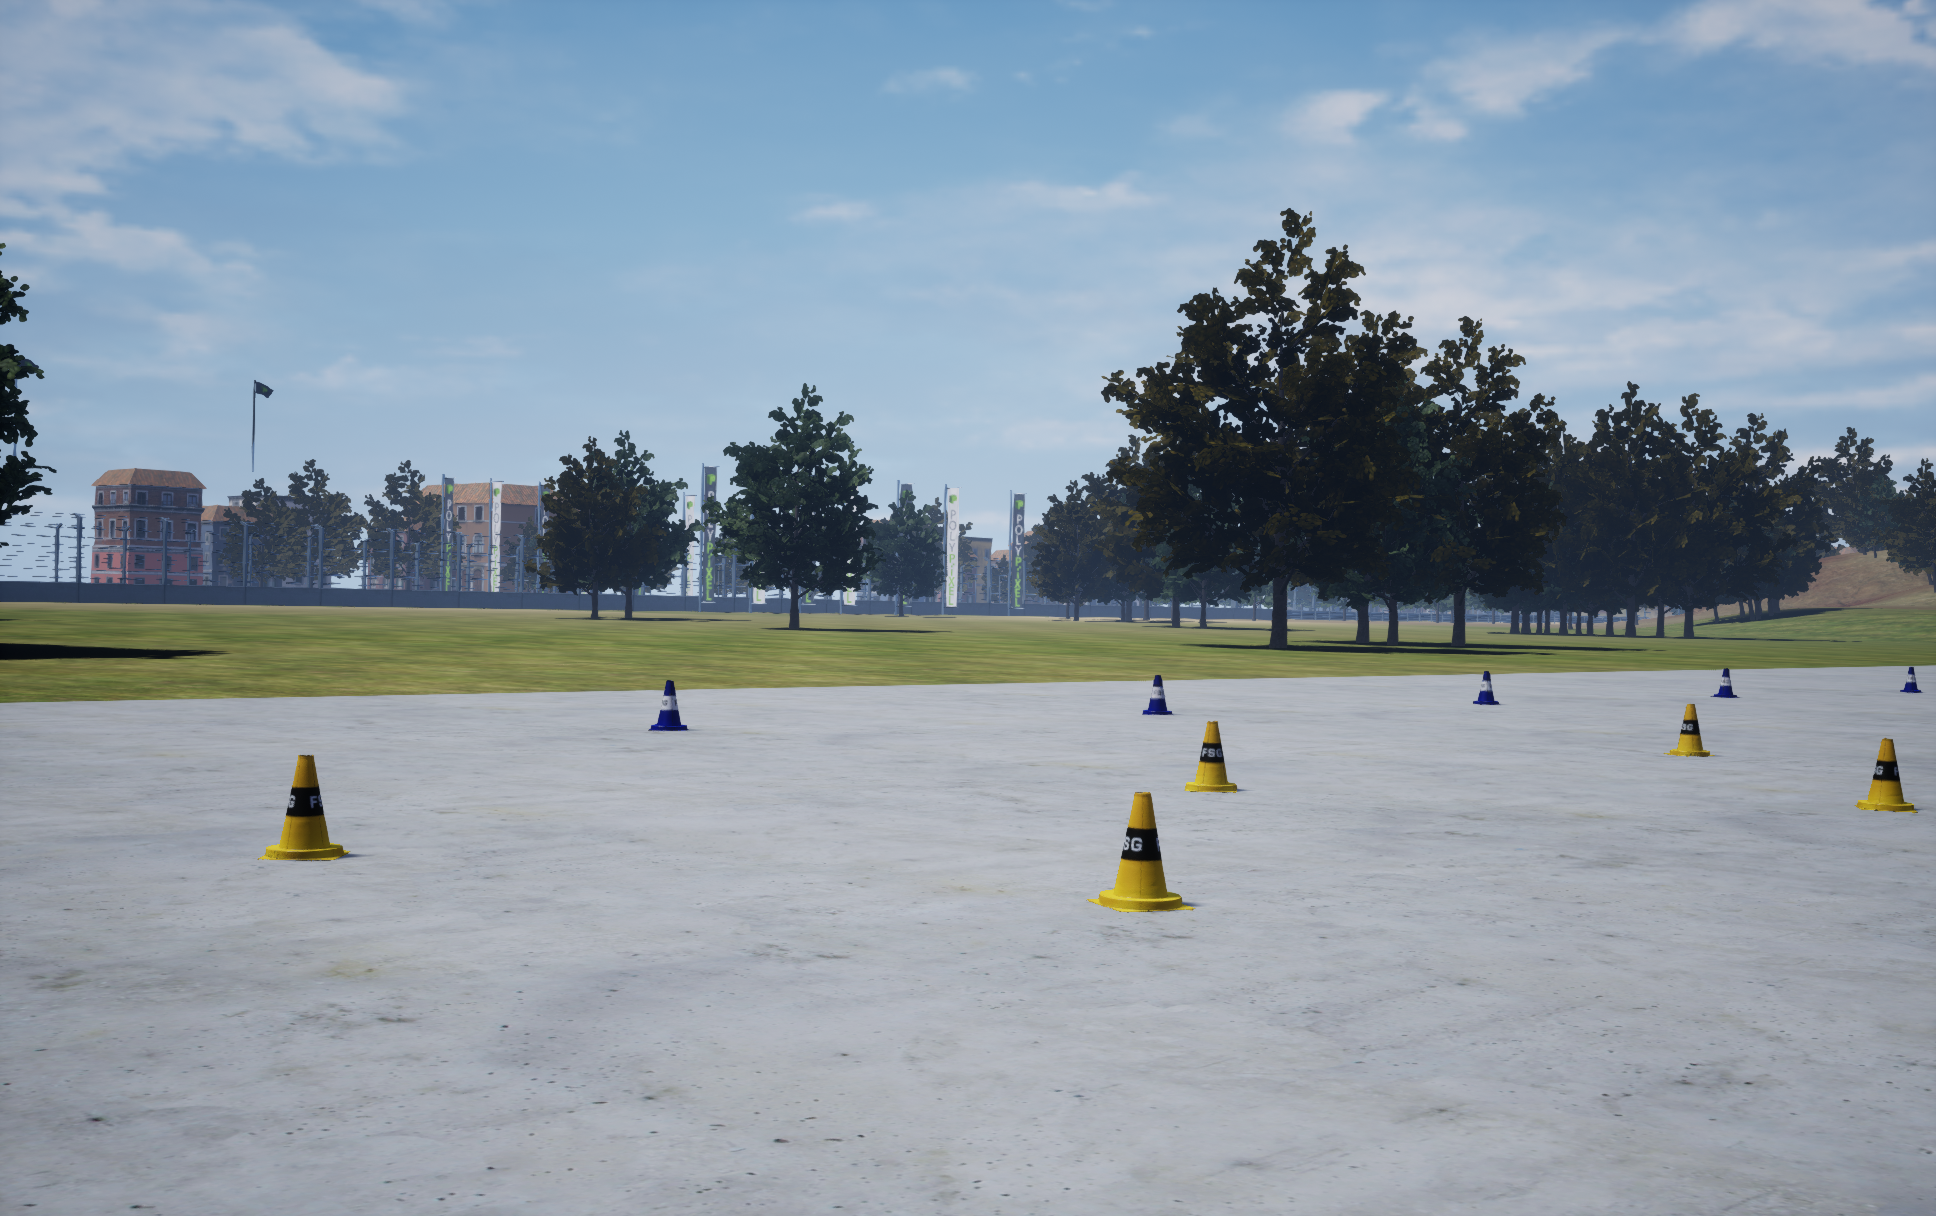blue: (1086, 792, 1195, 912), (256, 755, 350, 860), (1853, 738, 1916, 813), (1184, 721, 1236, 792), (1663, 705, 1715, 756)
yellow: (649, 679, 688, 730), (1142, 675, 1173, 714), (1472, 671, 1499, 705), (1710, 668, 1738, 698), (1900, 667, 1922, 692)
